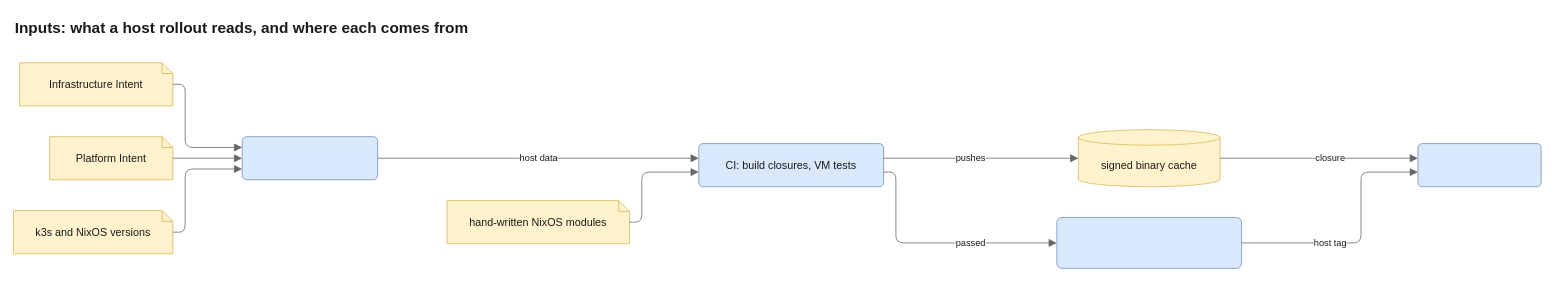
Some shapes in this 1555 by 282 pixel diagram are drawn without their labels. Here are the shapes that lost their labels. From the top down, the centre of each, then its label:
At pixel 309 158: "compile: host data".
At pixel 1479 165: "host applier".
At pixel 1149 242: "Delivery: publish the next host tag".
